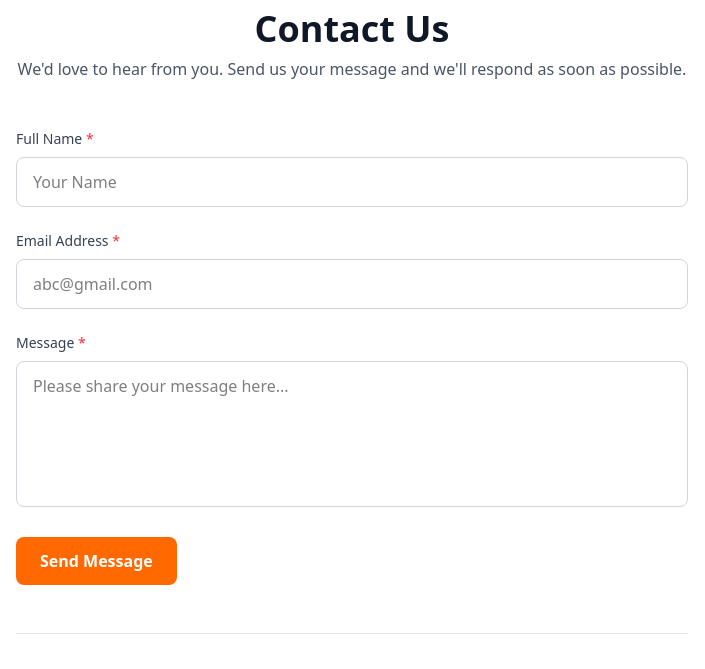
Test: Contact Us Page › Shows error for short message
Type "small" into the text box with placeholder "Please share your message here..." at (352, 434), box [16,361,688,507]
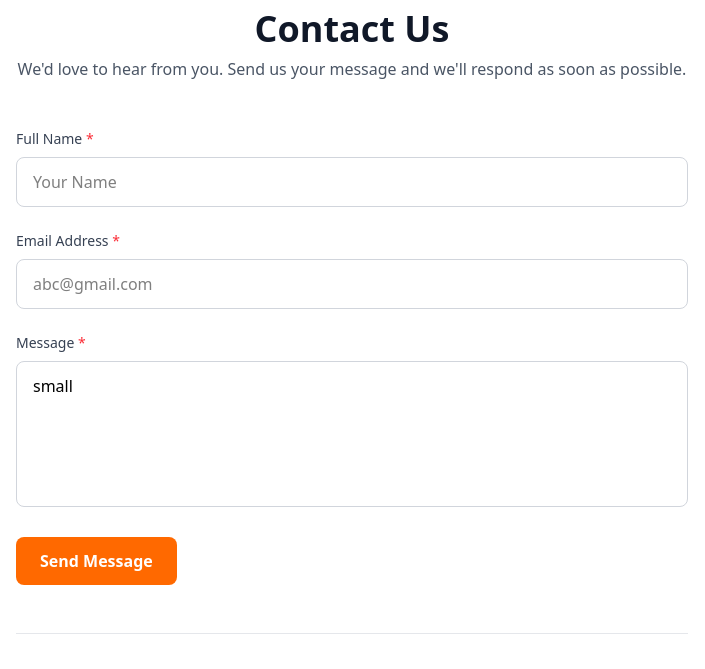
Click the button "Send Message" at (96, 561), box [16,537,177,585]
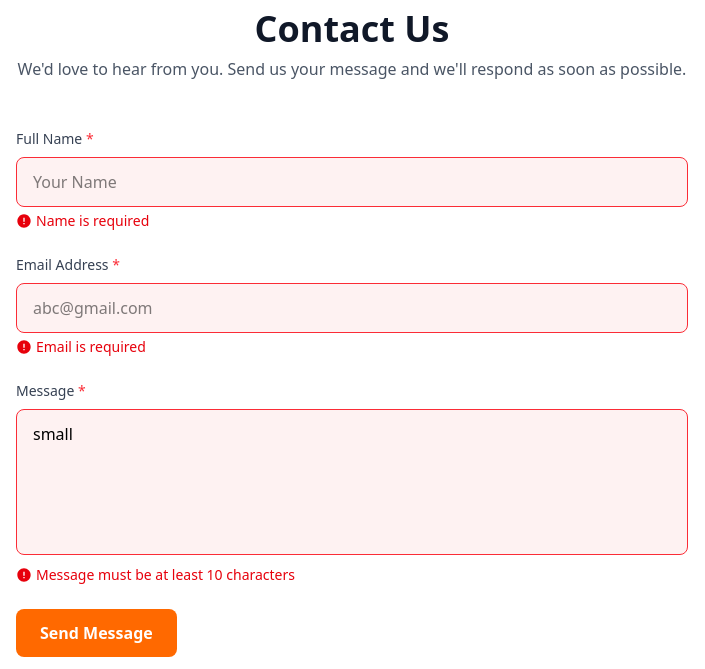
Check: the text "Message must be at least 10 characters" is shown, box [16,565,295,584]
